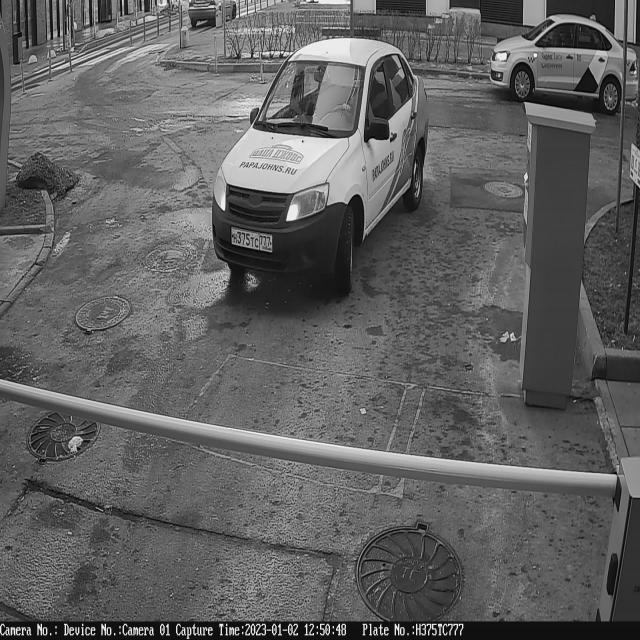car-plate-numbers: (229, 223, 276, 256)
